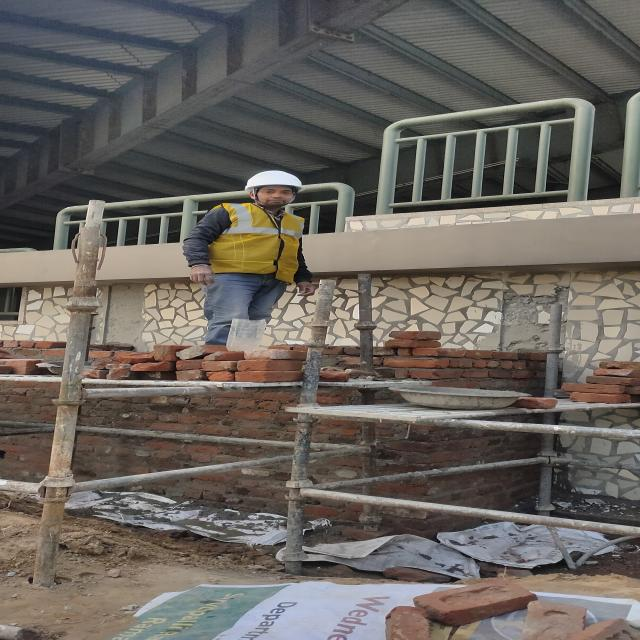safe: (185, 171, 314, 345)
